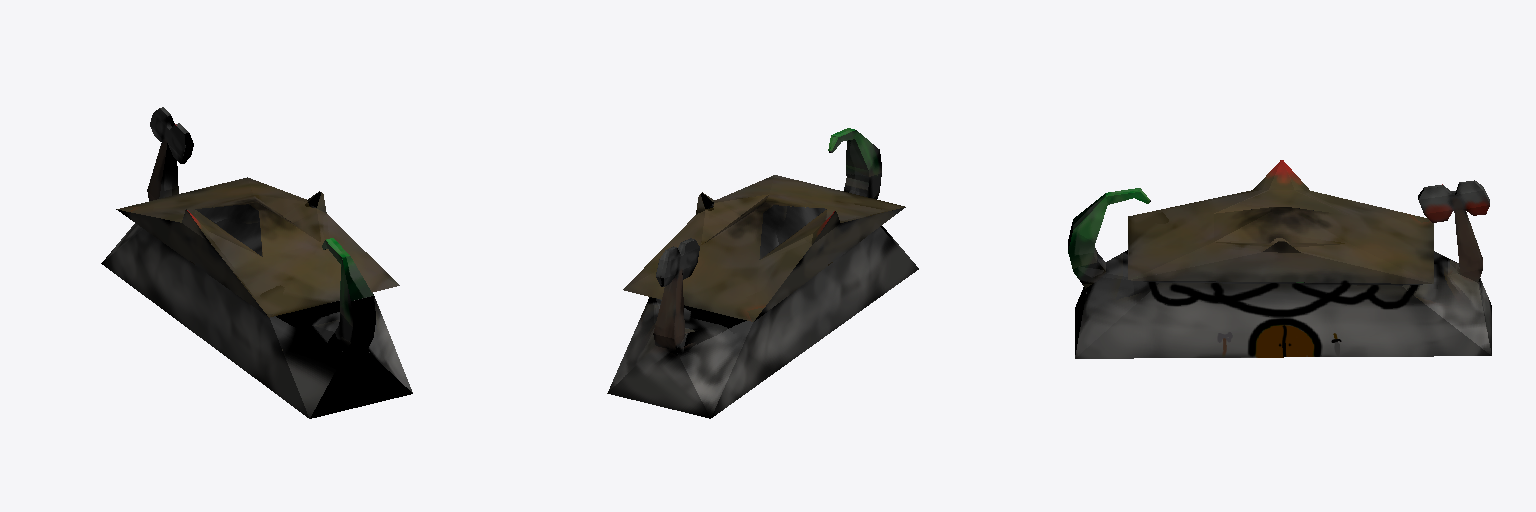
The picture shows the model from 3 angles: view 1: azimuth 30°, elevation 25°; view 2: azimuth 150°, elevation 25°; view 3: azimuth 270°, elevation 25°; orthographic projection.
Parts seen in each view (by area): view 1: Cube_base; view 2: Cube_base; view 3: Cube_base.
Part boxes in pixels (x1,y1,x2,y2): Cube_base: (101,107,412,418); Cube_base: (607,128,918,418); Cube_base: (1068,160,1491,358).
Size of the model in its own units: 2.59 by 2.75 by 6.92.
1 materials, 1 textured.